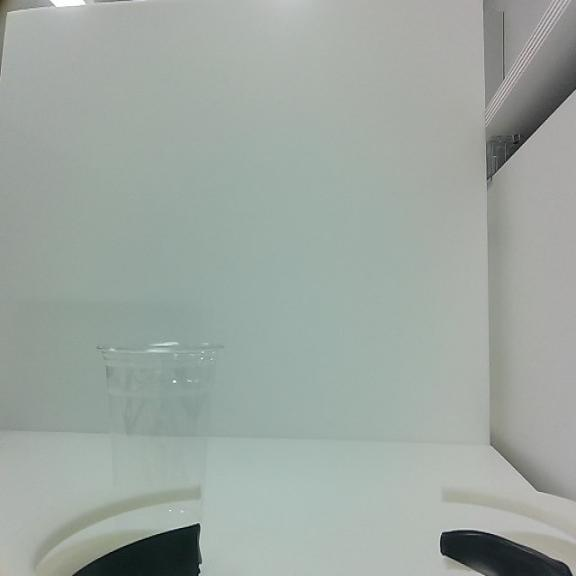Plastik: (97, 337, 229, 532)
